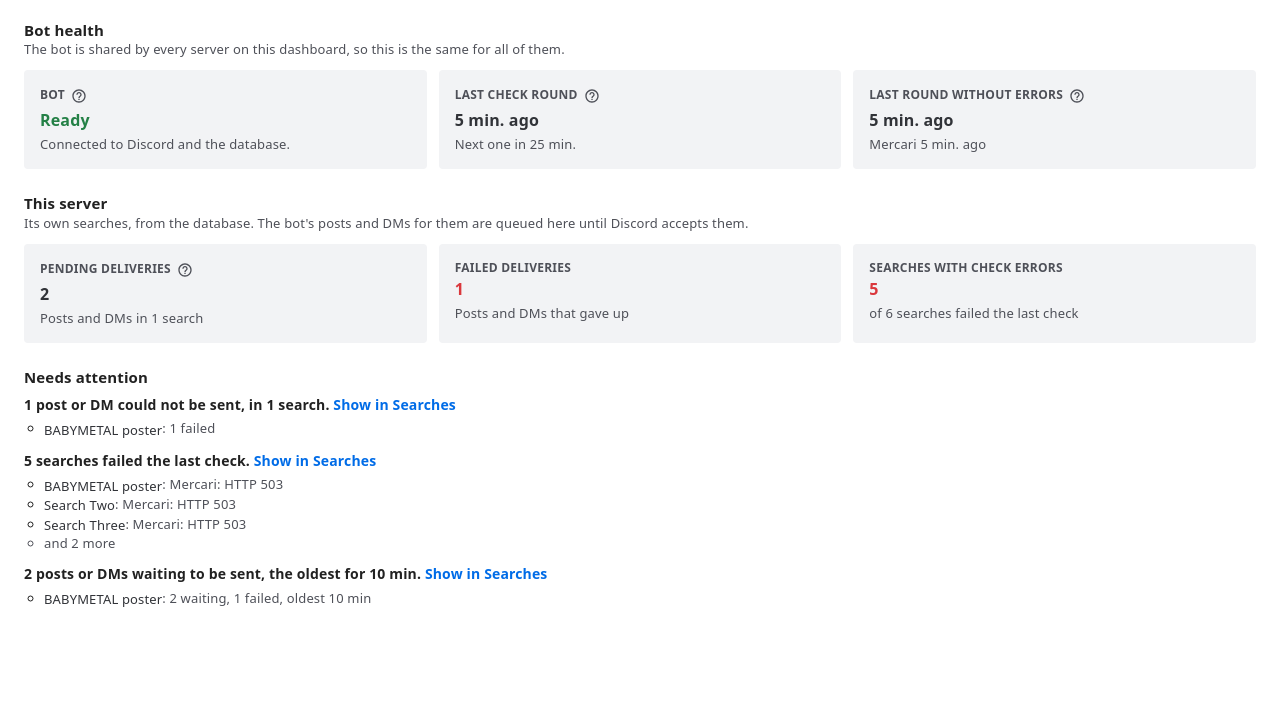
Test: StatusView overview › opens queue help on a phone without navigating away
What coordinates should you click on to do the following:
click the button named "About Pending deliveries"
I would click on:
 (185, 270)
Its box is 175,260 -> 195,280.
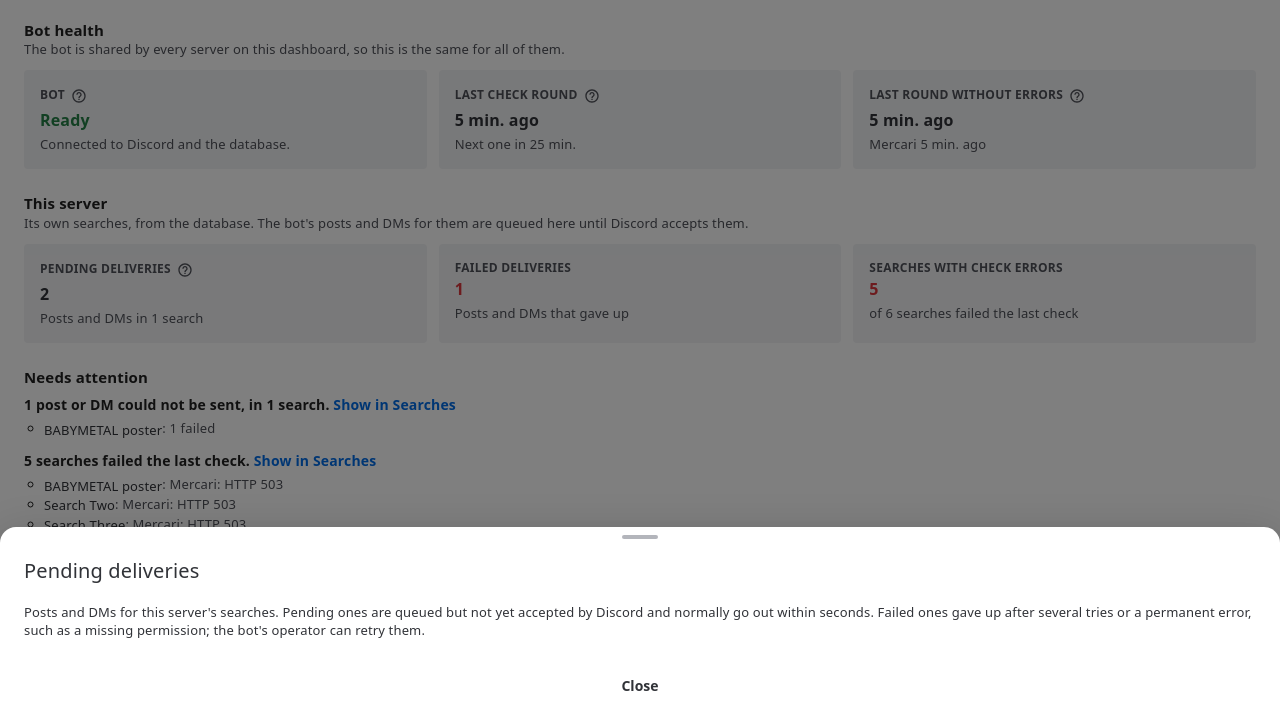
Expected: the dialog is shown, 0,527 -> 1279,719
